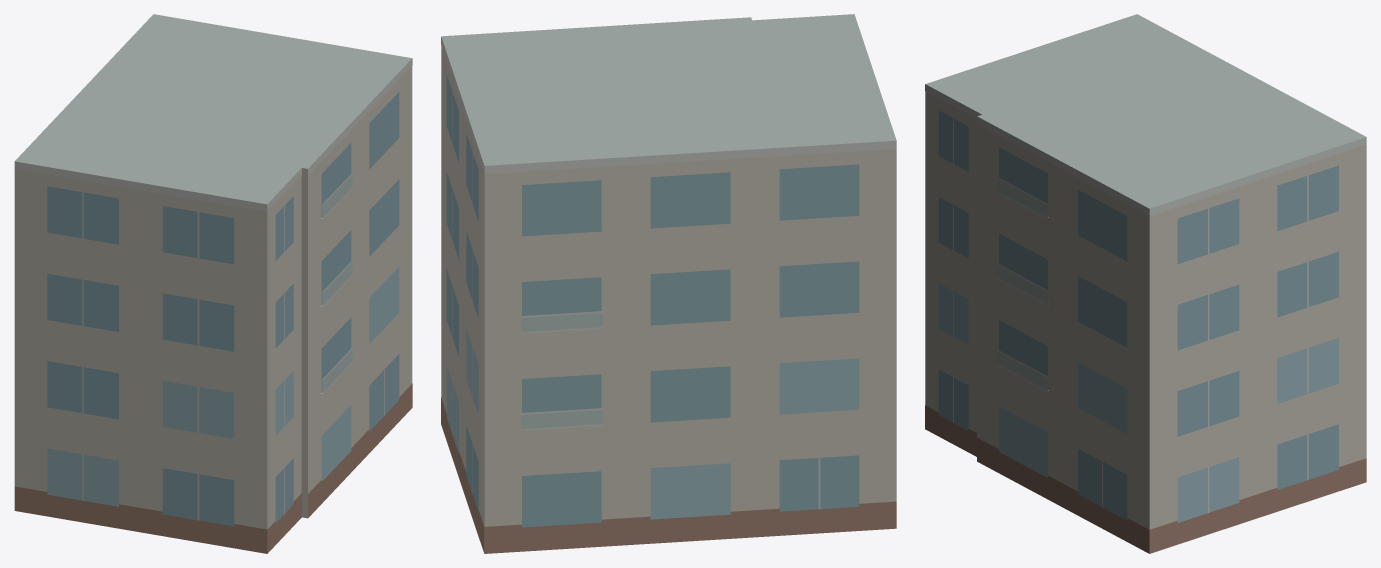
The model's file is survey-upis-32927576.glb.
3 views of the same model, side by side, from view 1: azimuth 30°, elevation 25°; view 2: azimuth 150°, elevation 25°; view 3: azimuth 270°, elevation 25° (orthographic). The views are drawn at different scales.
Parts seen in each view (by area): view 1: survey-upis-32927576.tmp; view 2: survey-upis-32927576.tmp; view 3: survey-upis-32927576.tmp.
Part boxes in pixels (x1=…): survey-upis-32927576.tmp: x1=14, y1=14, x2=412, y2=553; survey-upis-32927576.tmp: x1=441, y1=14, x2=896, y2=553; survey-upis-32927576.tmp: x1=925, y1=14, x2=1366, y2=553.
Bounding box in the file's own units: 14.04 × 11.6 × 13.45.
